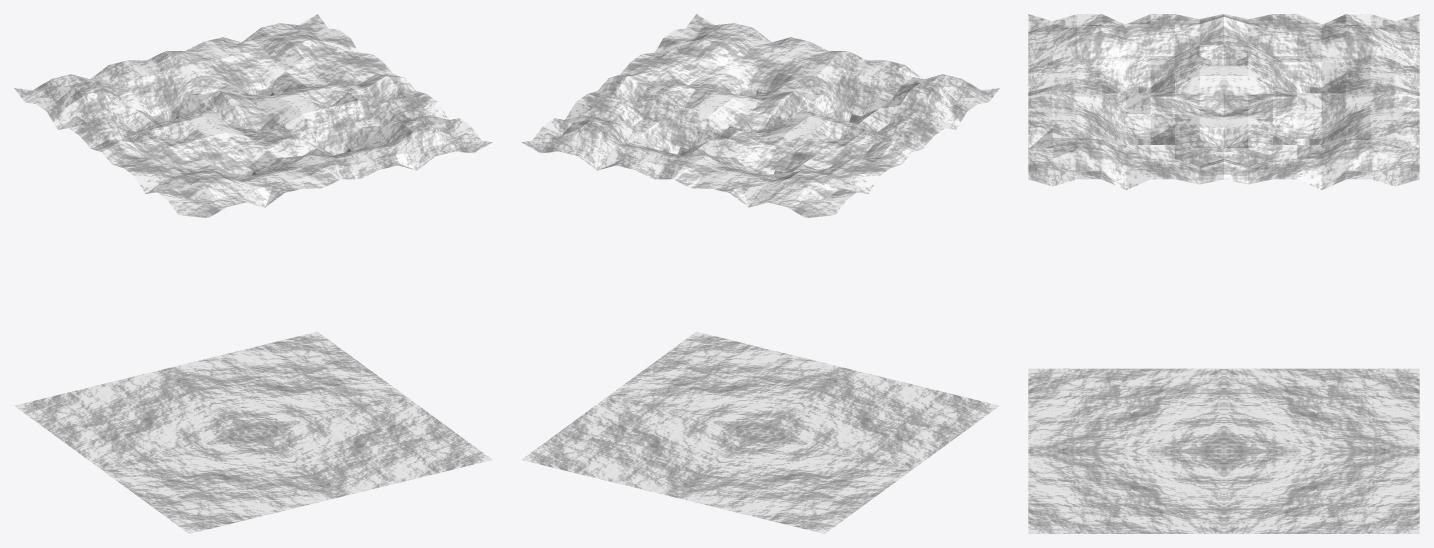
Rendered from Space.fbx.
3 renders of one model, left to right at view 1: azimuth 30°, elevation 25°; view 2: azimuth 150°, elevation 25°; view 3: azimuth 270°, elevation 25°, orthographic. The views are drawn at different scales.
Parts seen in each view (by area): view 1: Cube; view 2: Cube; view 3: Cube.
Boxes of the visible parts, x1,y1,x2,y2 form: Cube: (14, 14, 492, 533); Cube: (521, 14, 999, 533); Cube: (1028, 14, 1419, 533).
Size of the model in its own units: 100 by 102 by 100.
Materials: 1 (1 with a texture image).
